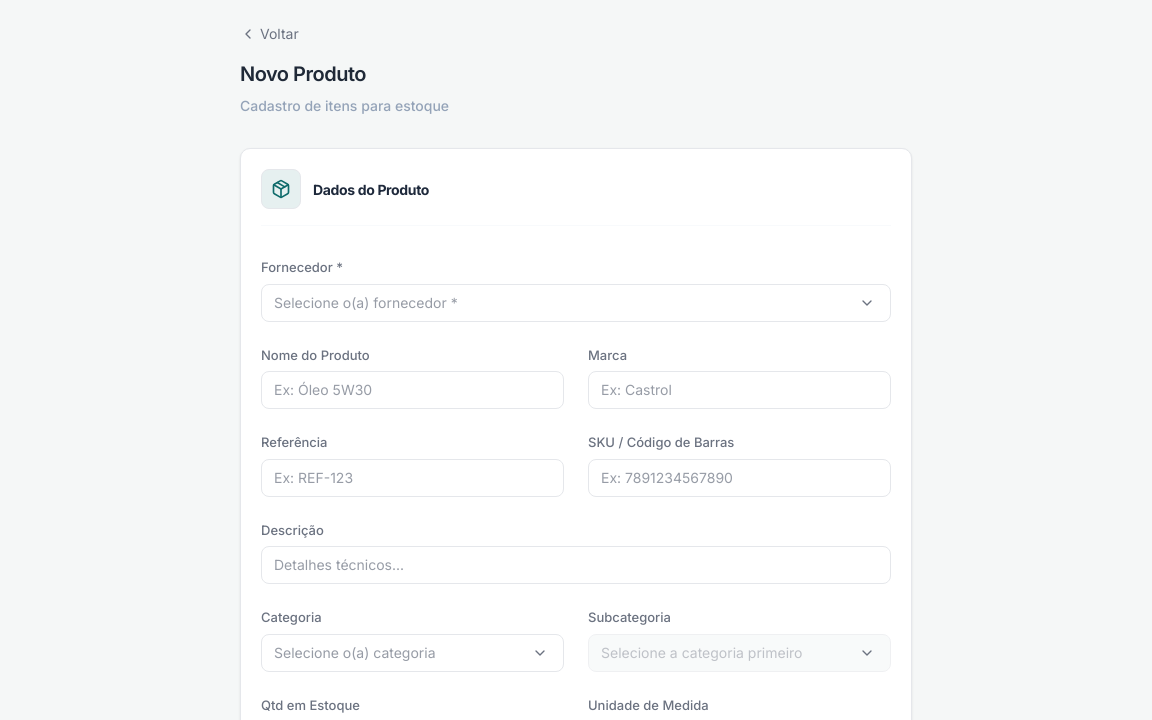
<ProductCreate> › criar subcategoria inline pré-preenche a categoria já escolhida no modal
The width and height of the screenshot is (1152, 720).
expect the text "Categoria" is shown: met, box [261, 609, 322, 625]
Step 1. Click the dropdown with placeholder "Selecione o(a) categoria" → (412, 652), box [261, 634, 564, 672]
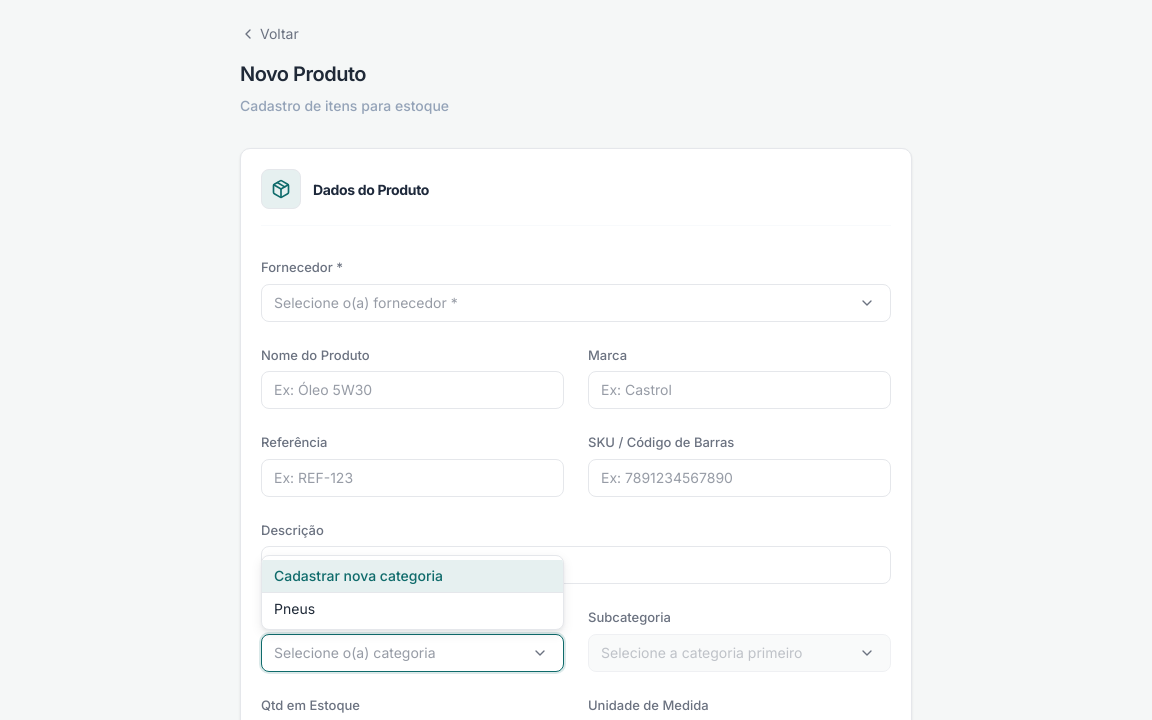
Step 2. Click the option "Pneus" → (294, 608), box [274, 600, 315, 617]
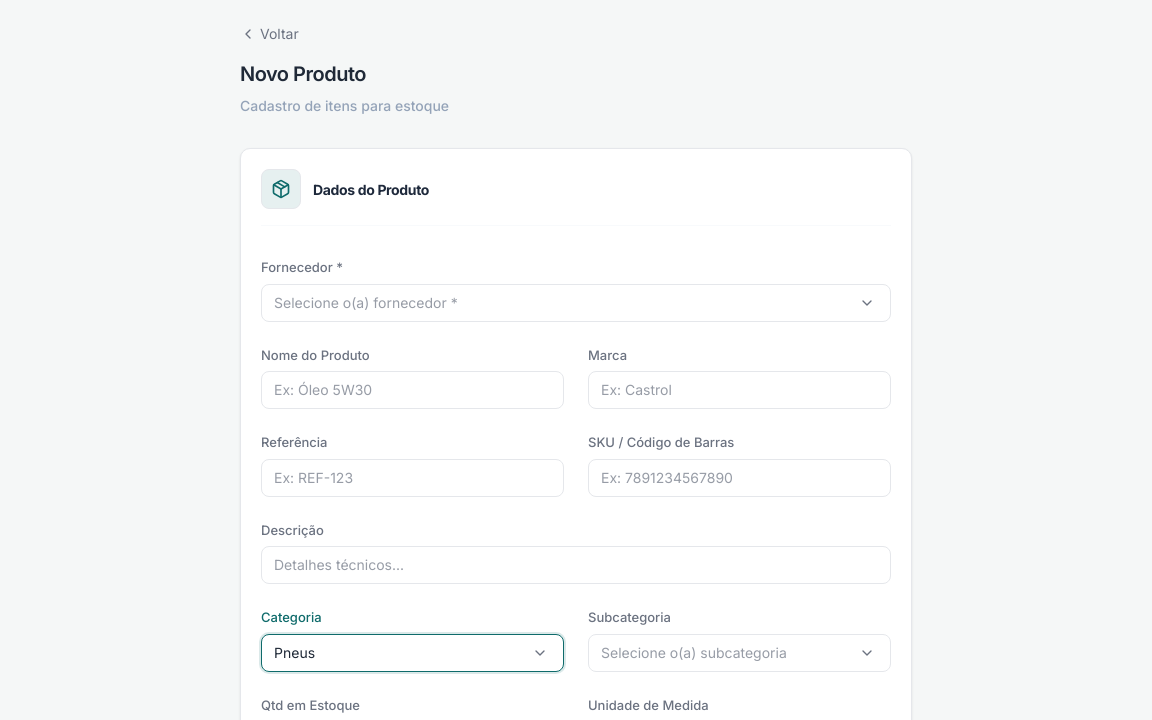
expect the dropdown with placeholder "Selecione o(a) subcategoria" is enabled: met
Step 3. Click the dropdown with placeholder "Selecione o(a) subcategoria" → (740, 652), box [588, 634, 891, 672]
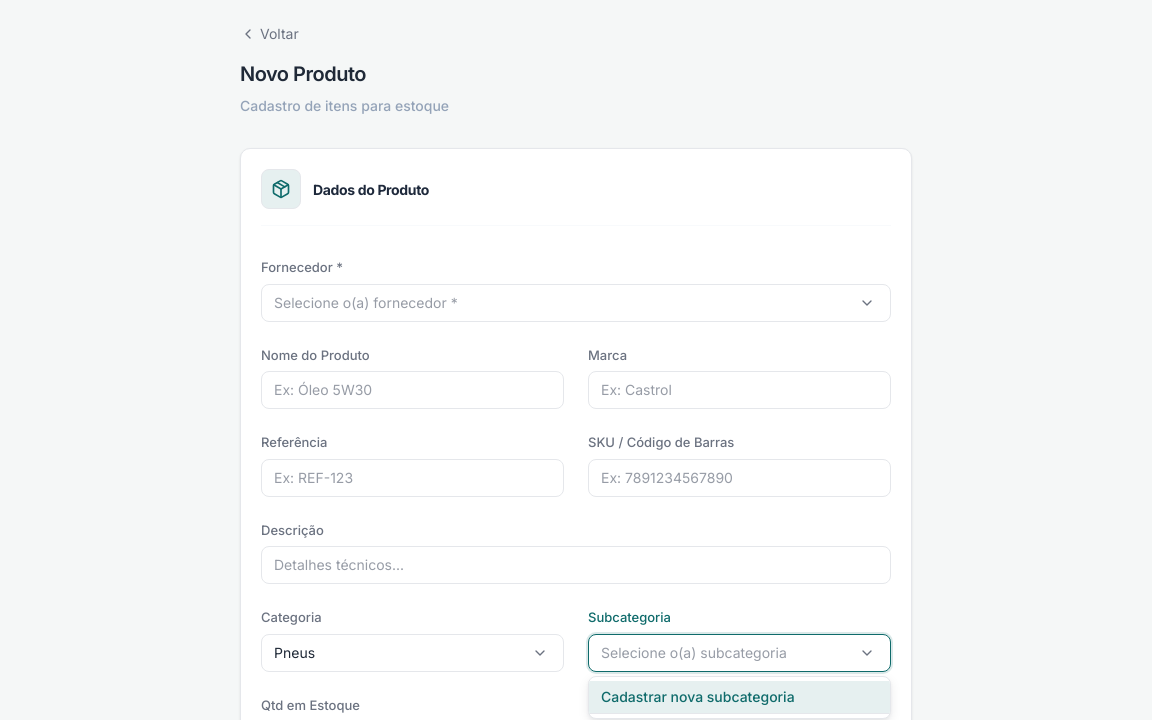
Step 4. Click the option "Cadastrar nova subcategoria" → (740, 698), box [589, 681, 890, 714]
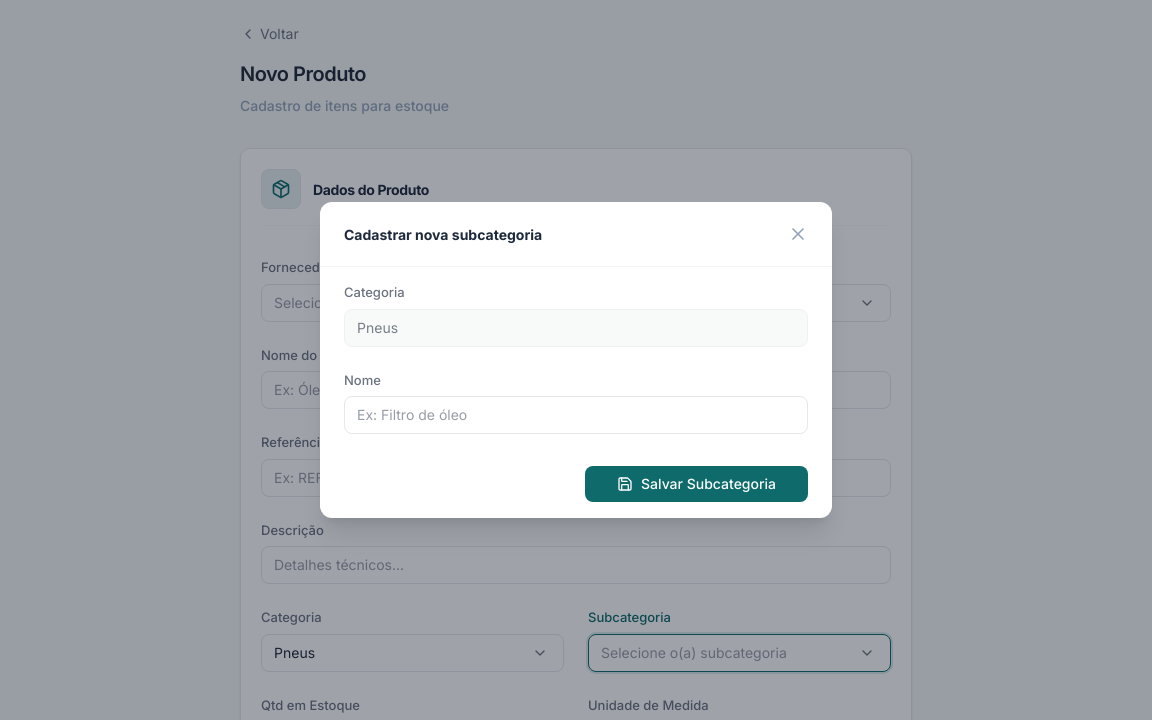
expect the 1st field holds "Pneus": met, box [344, 308, 808, 346]
